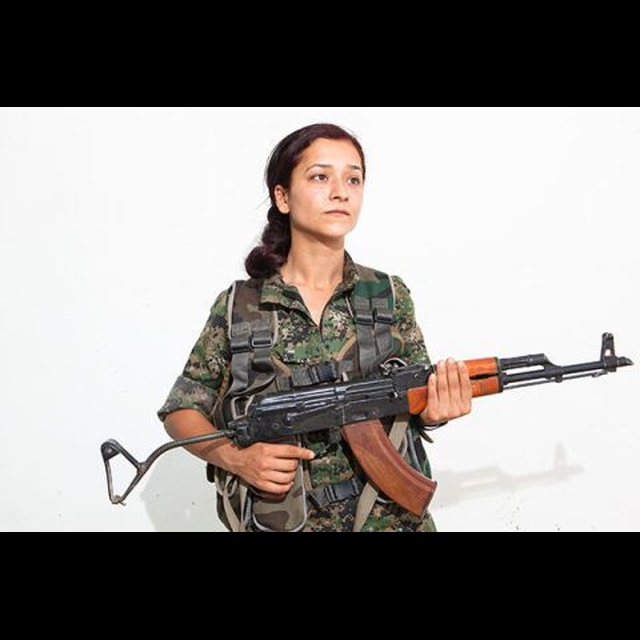AK47: (247, 329, 635, 519)
